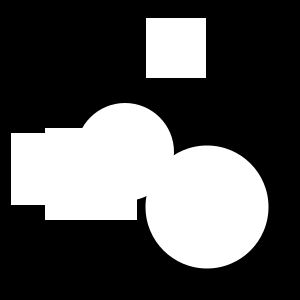circle: (45, 128, 137, 220), (11, 133, 83, 205), (146, 18, 206, 78)
rectangle: (146, 146, 268, 268), (76, 103, 174, 201)
